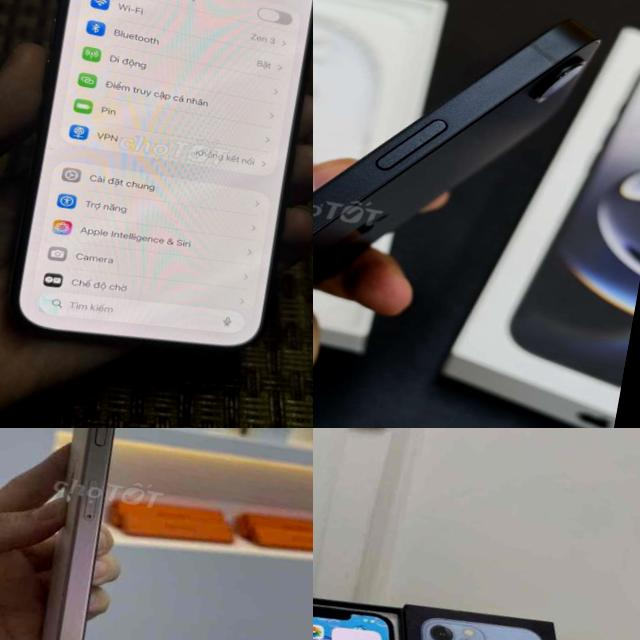gen_15: (0, 0, 313, 375)
gen_16: (313, 20, 599, 285), (41, 428, 114, 640)
